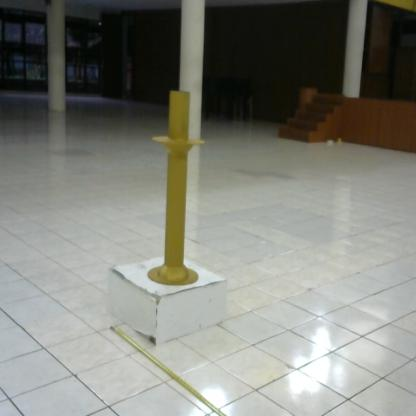pole: (146, 82, 210, 293)
